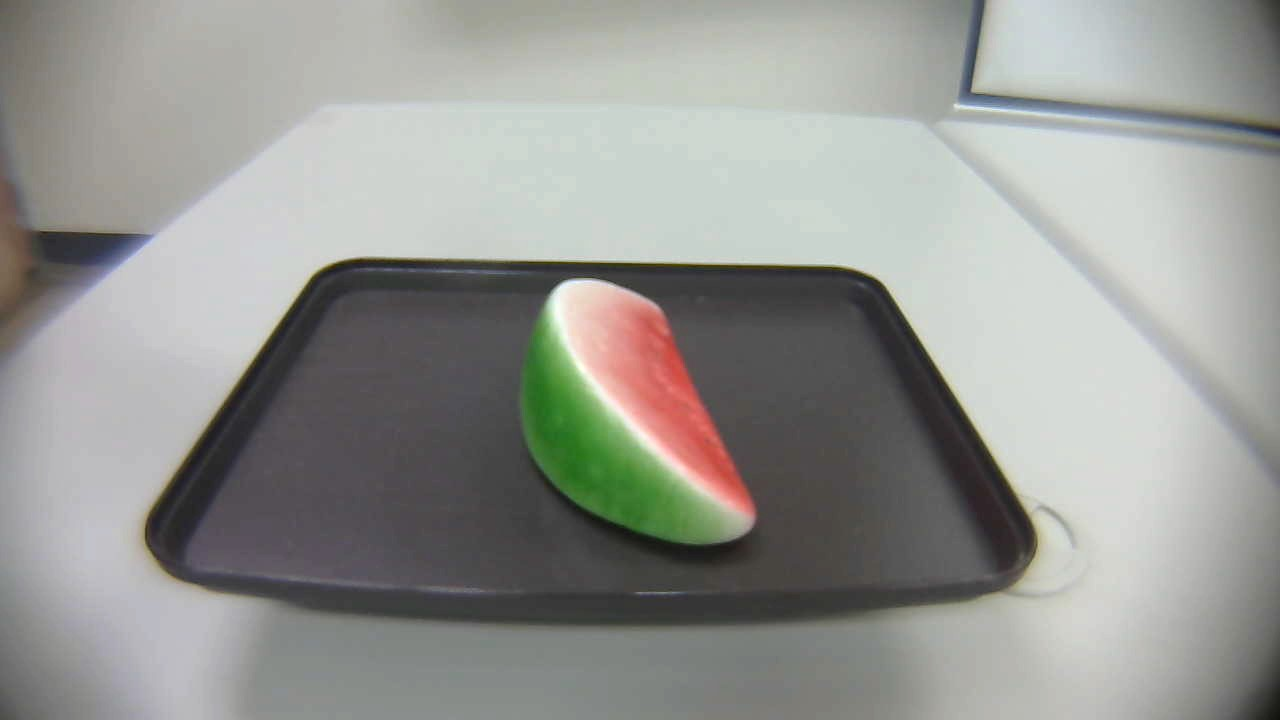water melon: (497, 268, 775, 566)
